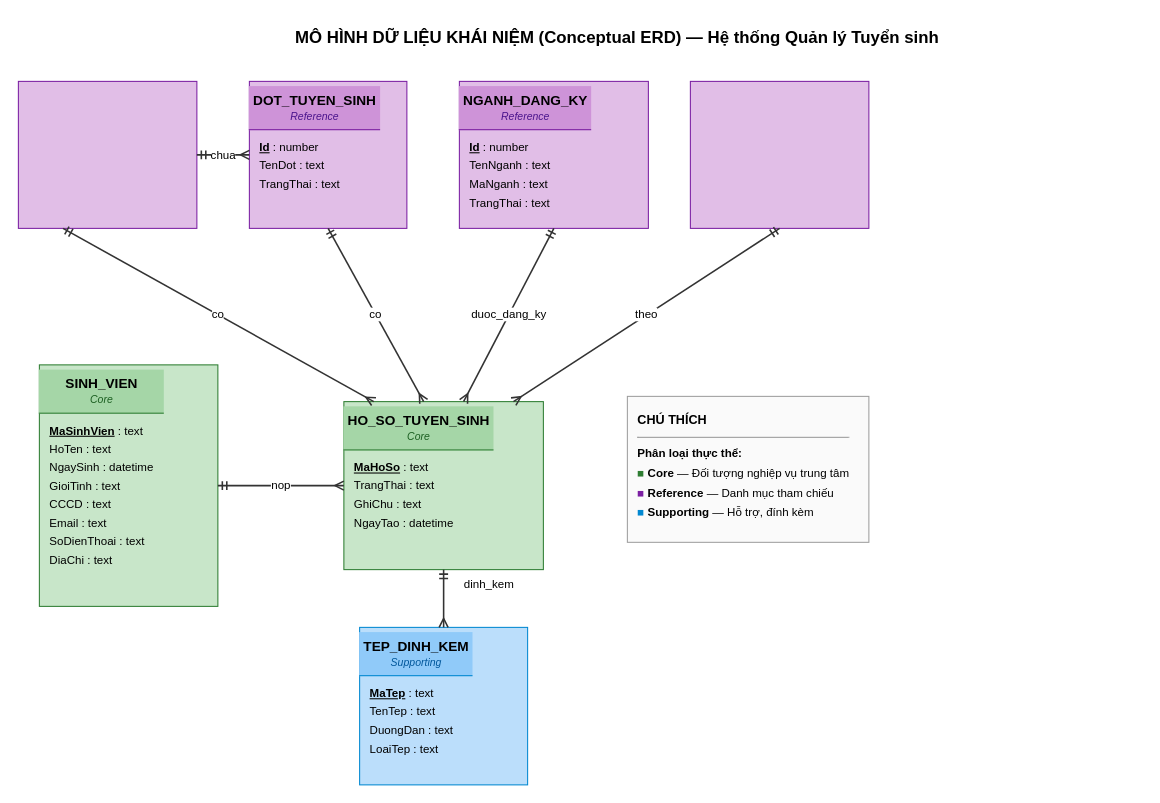
Some shapes in this 1160 by 803 pixel diagram are drawn without their labels. Each missing label, with the centre of its shape:
"HE_DAO_TAO Reference Id : number TenHe : text TrangThai : text" goes at [779,154].
"NAM_TUYEN_SINH Reference Id : number Nam : text TrangThai : text" goes at [107,154].
